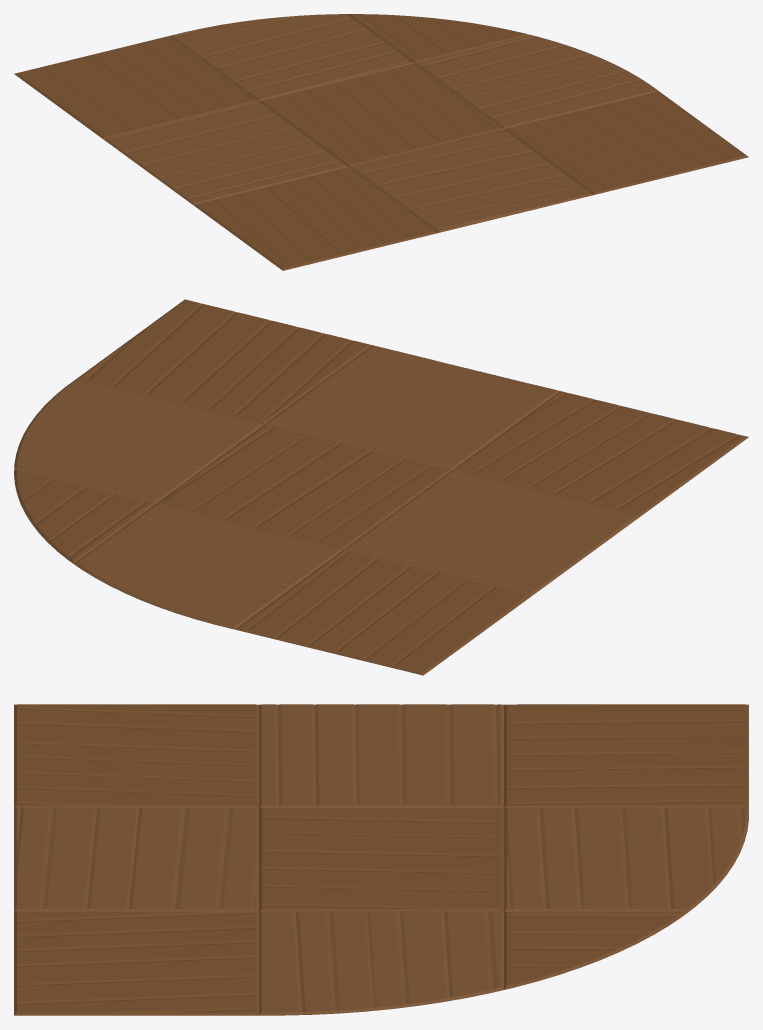
Rendered from Wood_Floor_Module_00_03.glb.
The picture shows the model from 3 angles, top to bottom: view 1: azimuth 30°, elevation 25°; view 2: azimuth 150°, elevation 25°; view 3: azimuth 270°, elevation 25°; orthographic projection. The views are drawn at different scales.
Visible parts, largest first — view 1: Wood_Floor_Module_00_03; view 2: Wood_Floor_Module_00_03; view 3: Wood_Floor_Module_00_03.
Boxes of the visible parts, x1,y1,x2,y2 form: Wood_Floor_Module_00_03: [14, 14, 748, 270]; Wood_Floor_Module_00_03: [14, 299, 748, 675]; Wood_Floor_Module_00_03: [14, 704, 748, 1015].
Bounding box in the file's own units: 4.74 × 0.012 × 4.74.
